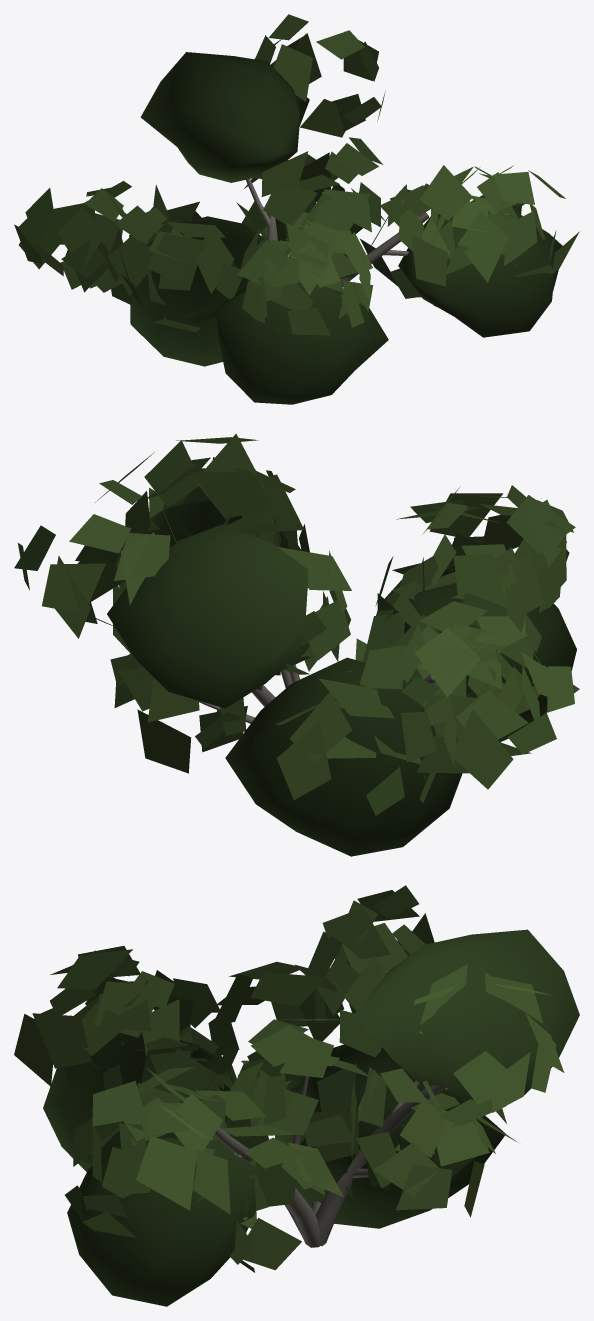
Rendered from tree_cottonwood_mid.glb.
3 renders of one model, top to bottom at view 1: azimuth 30°, elevation 25°; view 2: azimuth 150°, elevation 25°; view 3: azimuth 270°, elevation 25°, orthographic. The views are drawn at different scales.
Visible parts, largest first — view 1: tree_cottonwood_mid; view 2: tree_cottonwood_mid; view 3: tree_cottonwood_mid.
Boxes of the visible parts, <box> form: tree_cottonwood_mid: <box>14,14,579,404</box>; tree_cottonwood_mid: <box>14,433,579,856</box>; tree_cottonwood_mid: <box>14,885,579,1306</box>.
Size of the model in its own units: 15.71 by 8.58 by 13.44.
